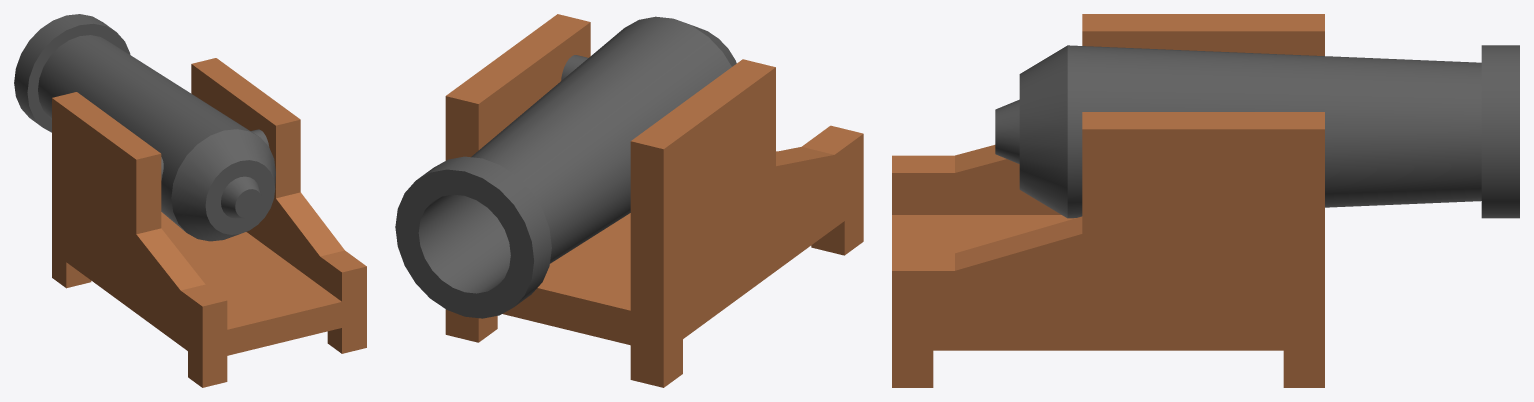
The model's file is cannonLarge.fbx.
The picture shows the model from 3 angles, left to right: view 1: azimuth 30°, elevation 25°; view 2: azimuth 150°, elevation 25°; view 3: azimuth 270°, elevation 25°; orthographic projection. The views are drawn at different scales.
Parts seen in each view (by area): view 1: cannonLarge, barrel 1; view 2: cannonLarge, barrel 1; view 3: cannonLarge, barrel 1.
Part boxes in pixels (box(x1,y1,x2,y2)): cannonLarge: box(52, 58, 366, 387); barrel 1: box(14, 14, 275, 241); cannonLarge: box(445, 14, 863, 387); barrel 1: box(395, 16, 736, 318); cannonLarge: box(892, 14, 1324, 387); barrel 1: box(995, 45, 1519, 218).
Size of the model in its own units: 4.34 by 4.87 by 9.99.
